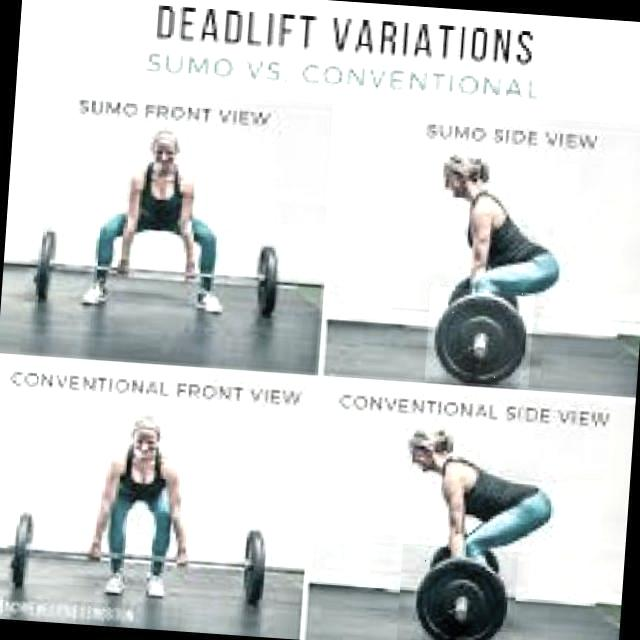barbell: (395, 544, 519, 640), (425, 287, 535, 389)
